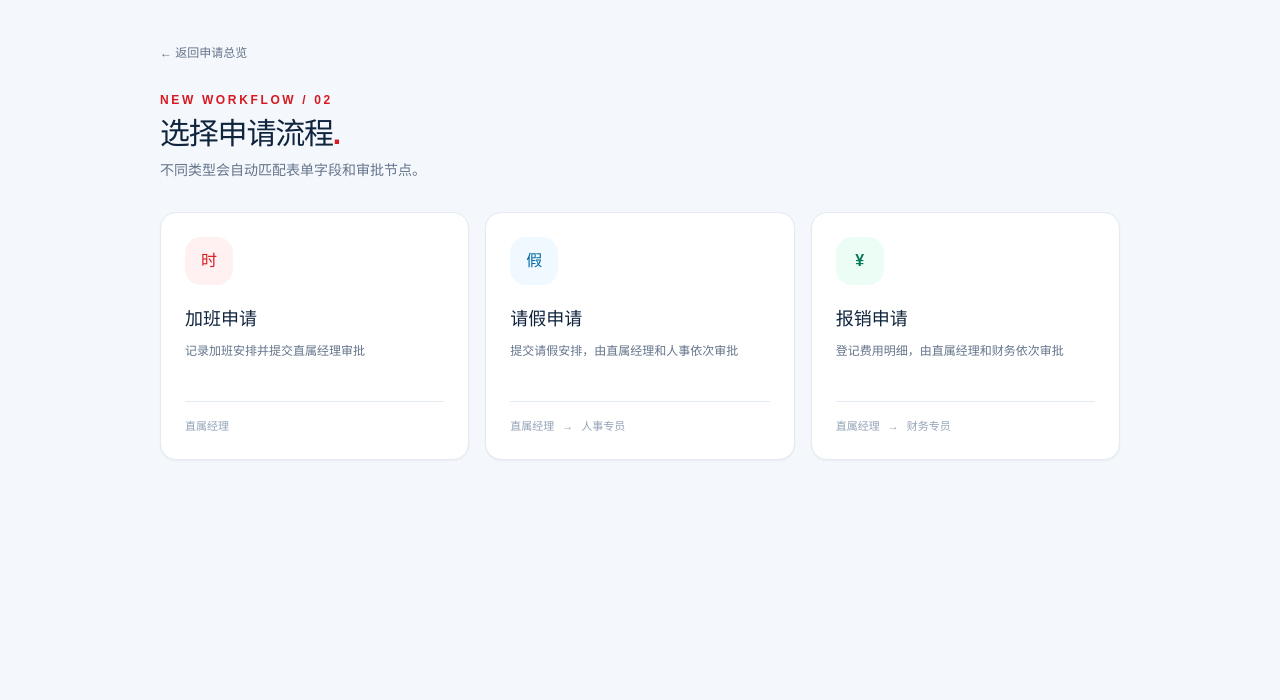
Test: new application page › switches field definitions for leave and reimbursement
Click the button "假 请假申请 提交请假安排，由直属经理和人事依次审批 直属经理 → 人事专员" at (534, 261), box [485,212,795,460]
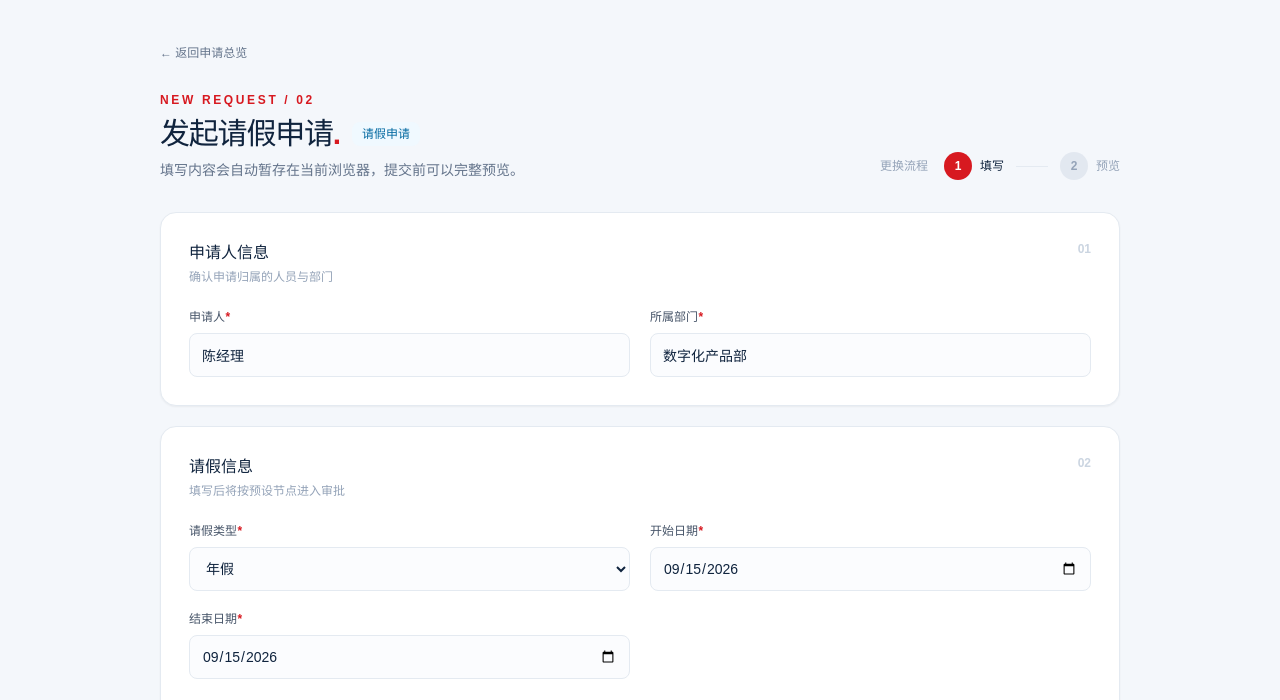
Now the dropdown labelled "请假类型*" shows "年假", box [189,547,630,591]
Now the date field labelled "开始日期*" is shown, box [650,547,1091,591]
Now the date field labelled "结束日期*" is shown, box [189,635,630,679]
Click the button "更换流程" at (904, 166), box [880,158,928,174]
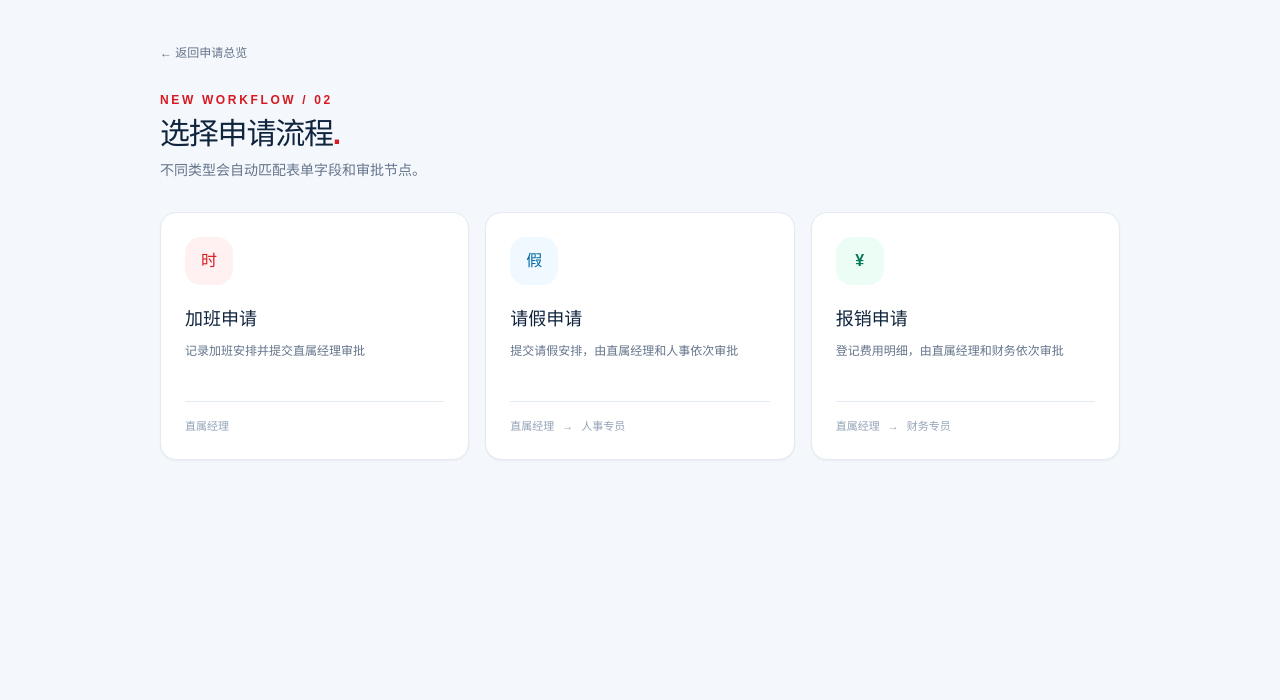
Click the button "¥ 报销申请 登记费用明细，由直属经理和财务依次审批 直属经理 → 财务专员" at (860, 261), box [811,212,1120,460]
(page scrolled)
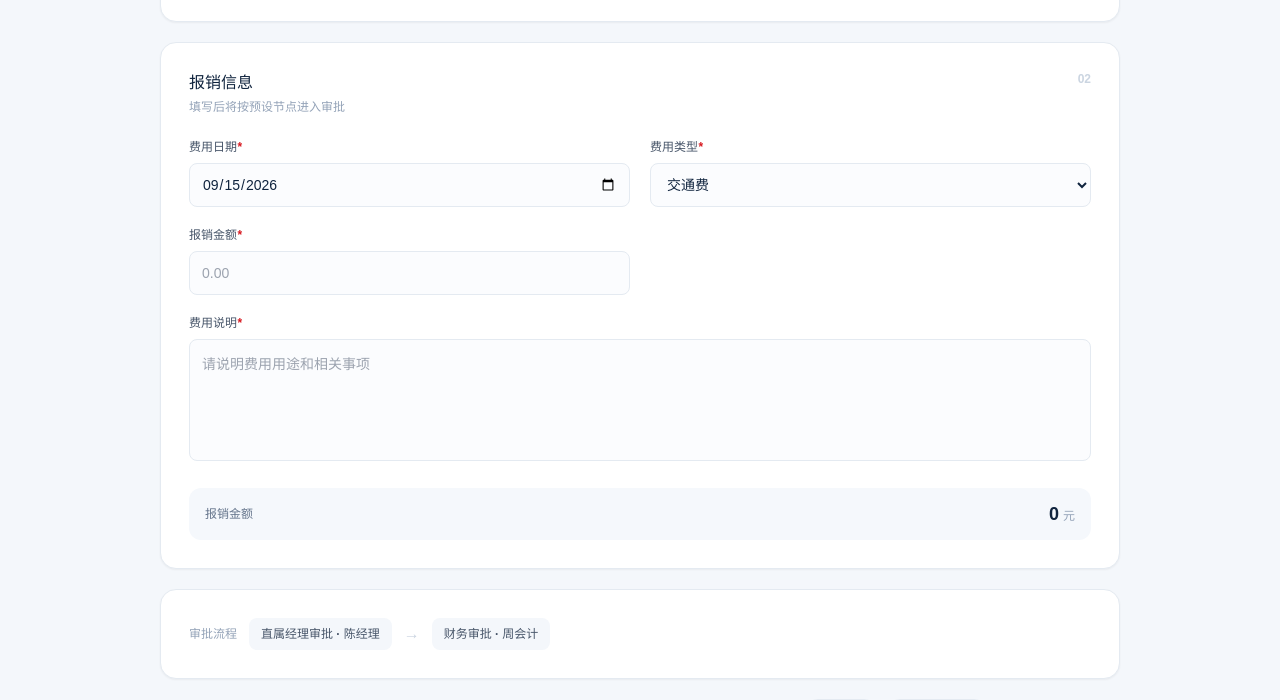
Now the dropdown labelled "费用类型*" shows "交通费", box [650,163,1091,207]
Now the number field labelled "报销金额*" is shown, box [189,251,630,295]
Now the text box labelled "费用说明*" is shown, box [189,339,1091,461]
